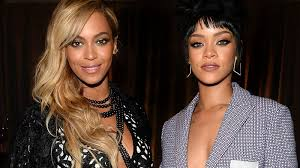black_female: (56, 8, 119, 83)
